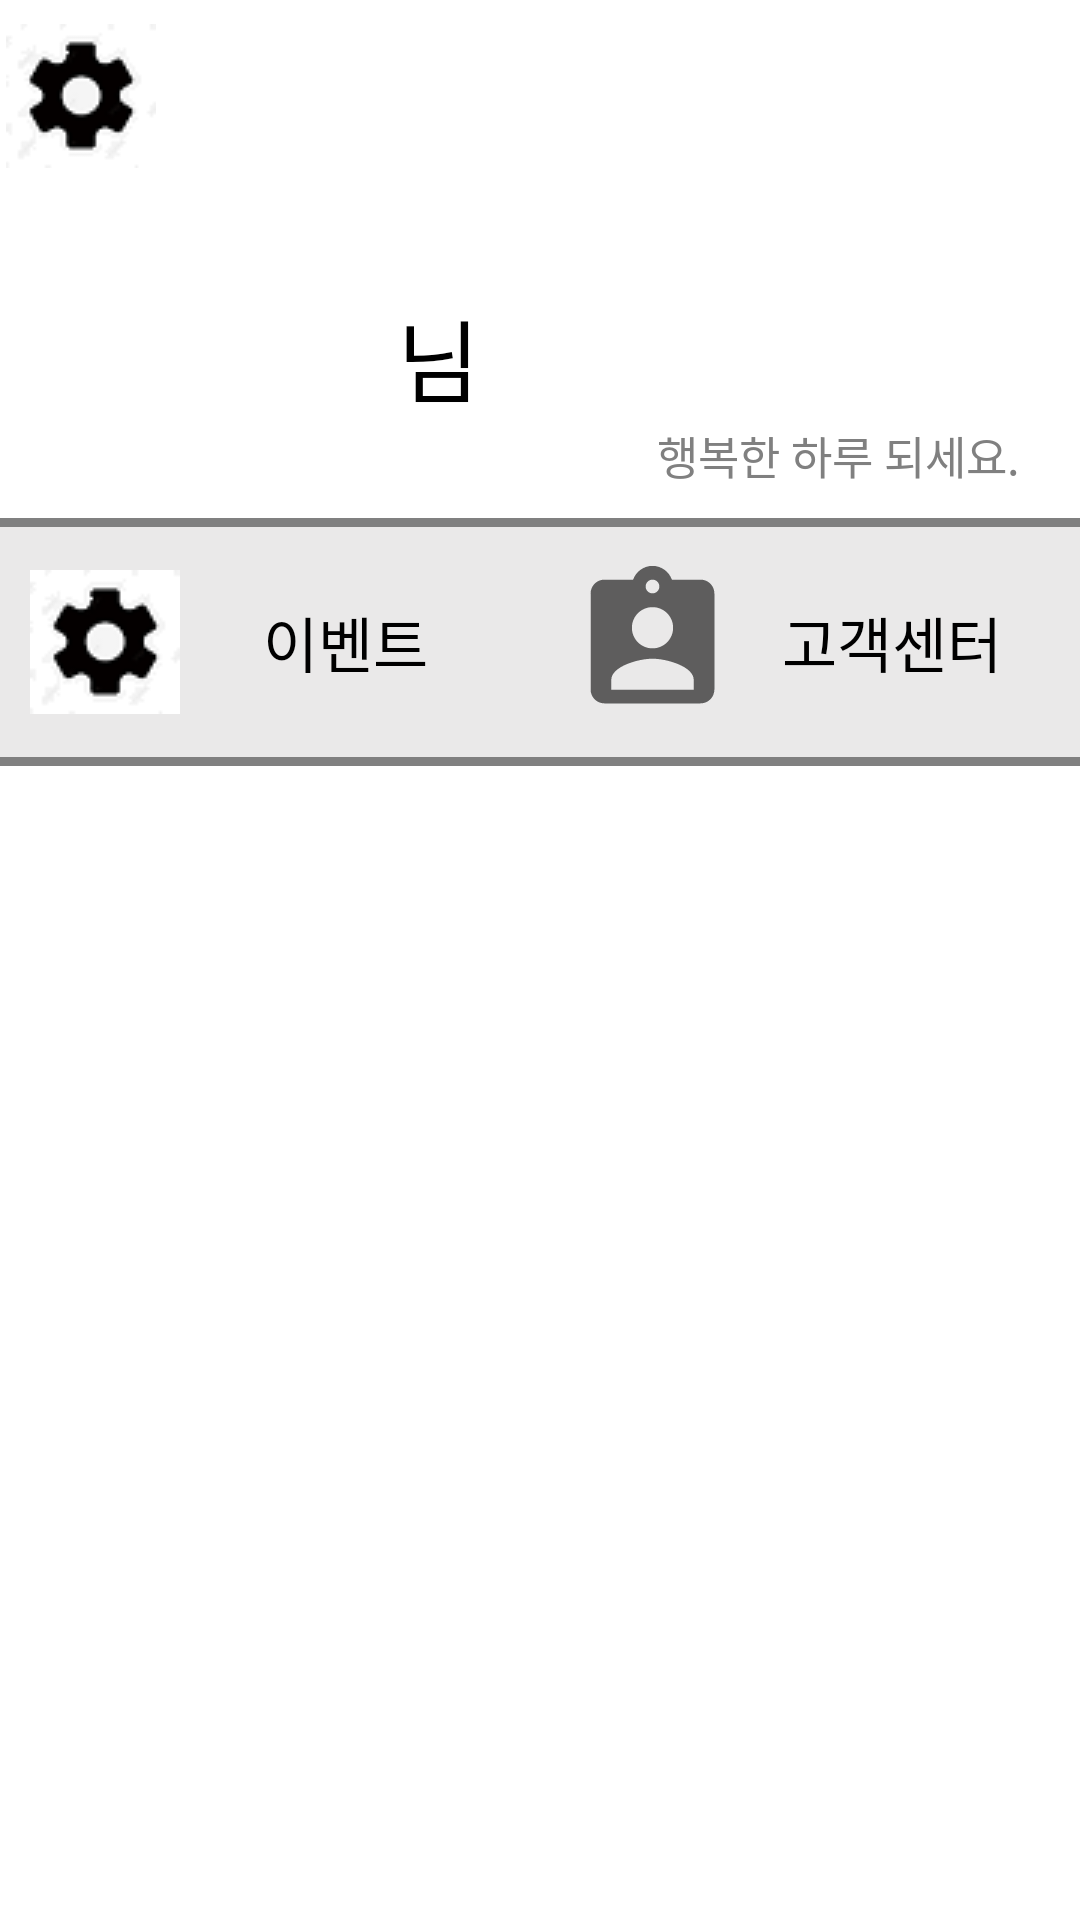

Icons on this 1080*1920 Android screen, each with the point to tap as (x=x, y=y):
mybank setting: (x=82, y=96)
